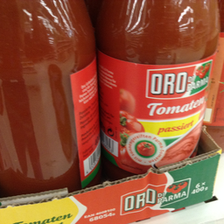tomato_sauce: (98, 1, 219, 176), (1, 1, 101, 195)
